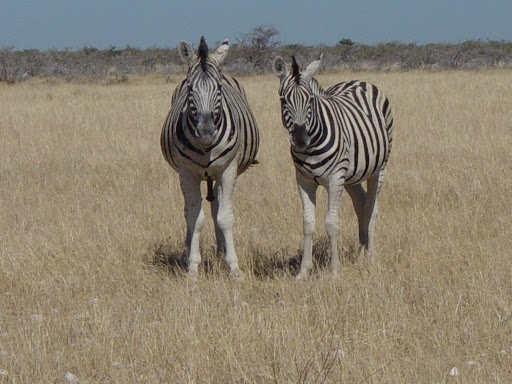zebra: (269, 49, 394, 277), (160, 34, 261, 284)
